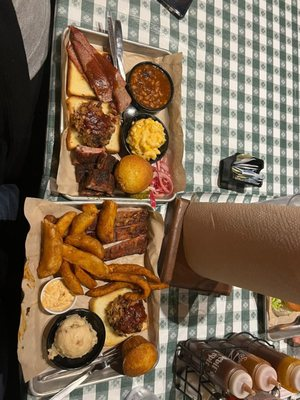salad: (32, 346, 123, 399)
sushi: (43, 308, 106, 370)
